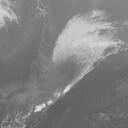cyclone: (52, 12, 106, 64)
